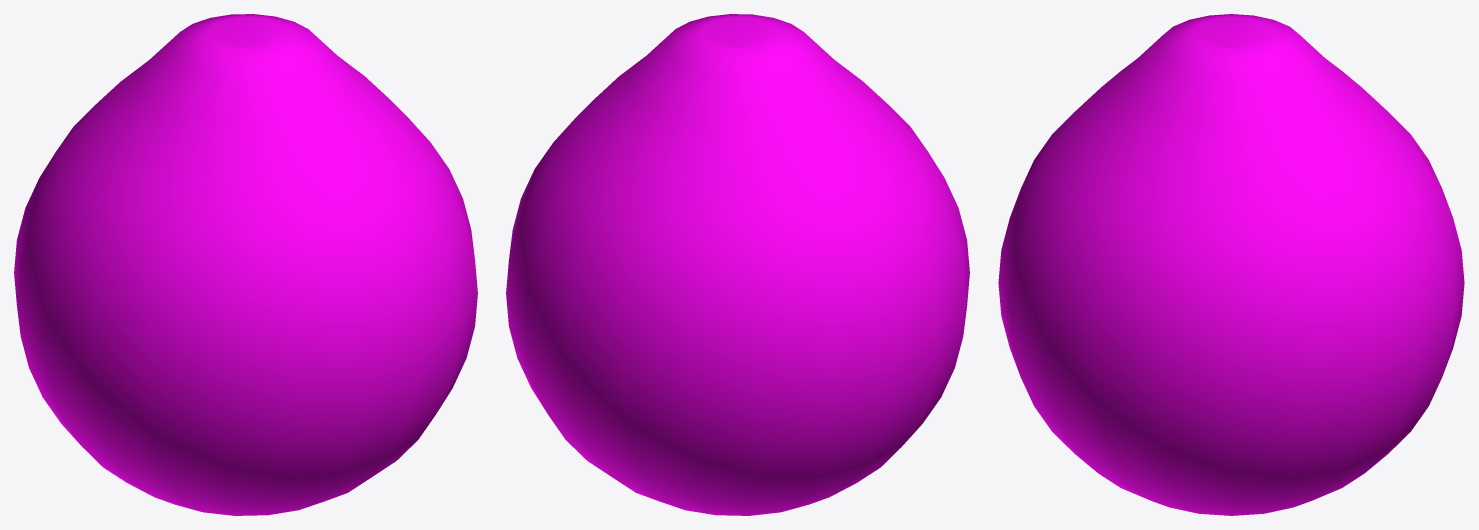
The model's file is hard fruit.fbx.
3 views of the same model, side by side, from view 1: azimuth 30°, elevation 25°; view 2: azimuth 150°, elevation 25°; view 3: azimuth 270°, elevation 25° (orthographic).
Parts seen in each view (by area): view 1: hard_fruit1; view 2: hard_fruit1; view 3: hard_fruit1.
Part boxes in pixels (<box>): hard_fruit1: <box>14,14,477,515</box>; hard_fruit1: <box>506,14,969,515</box>; hard_fruit1: <box>998,14,1464,515</box>.
Size of the model in its own units: 0.3505 by 0.3829 by 0.3505.
